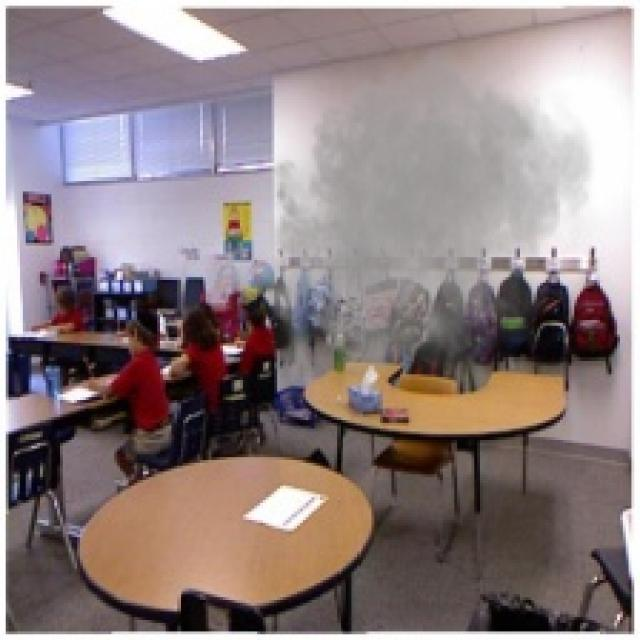smoke: (245, 34, 606, 409)
